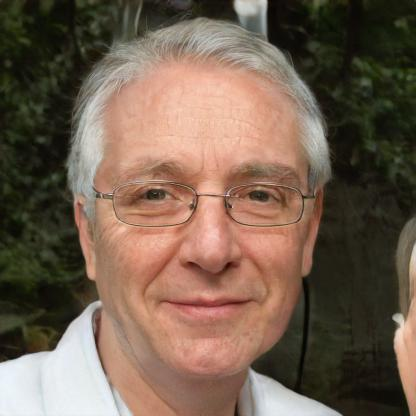glasses: (99, 173, 313, 237)
